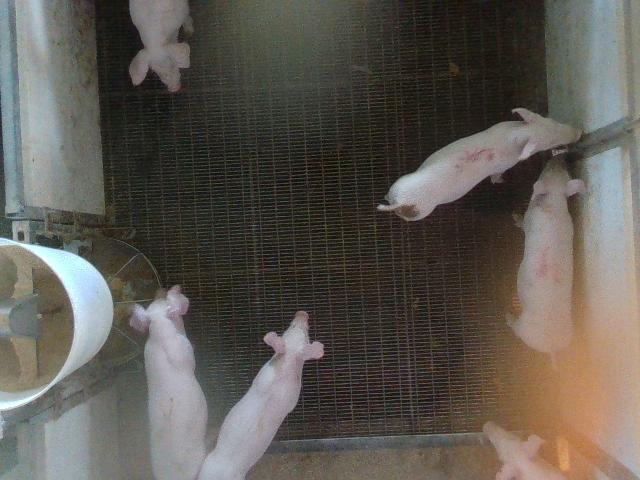pig-4: (508, 155, 584, 354)
pig-5: (378, 108, 581, 221)
